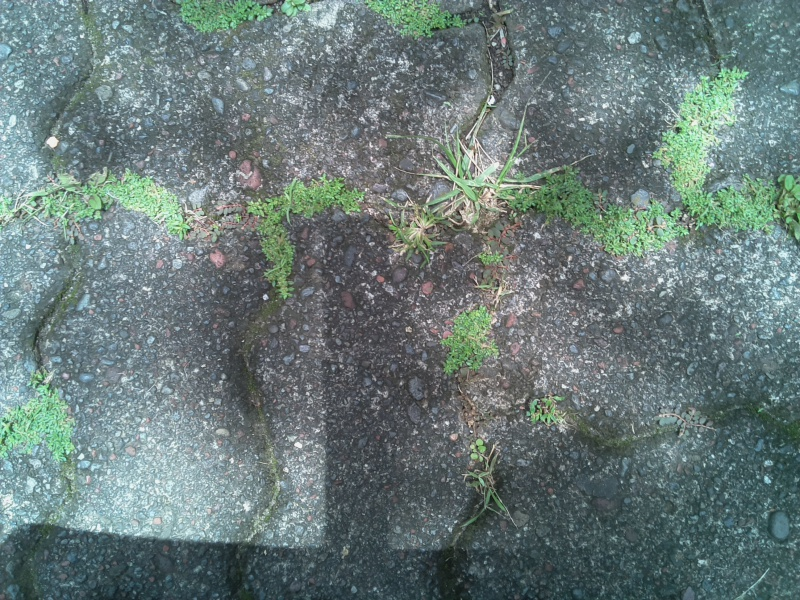Weed: (243, 176, 357, 297), (39, 166, 196, 245), (532, 175, 672, 259), (658, 73, 745, 199), (426, 130, 531, 225), (690, 180, 798, 246), (1, 384, 77, 465), (460, 435, 513, 512), (359, 1, 461, 41), (441, 311, 495, 372), (170, 3, 270, 34), (522, 394, 567, 435), (276, 1, 313, 28)
